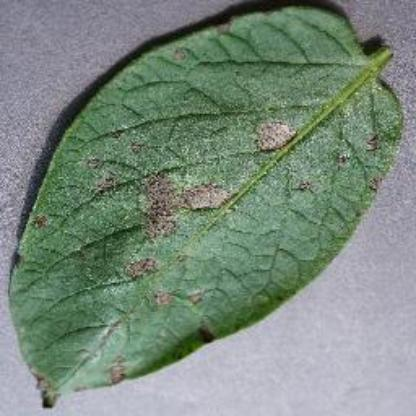Early-Blight: (12, 4, 412, 406)
